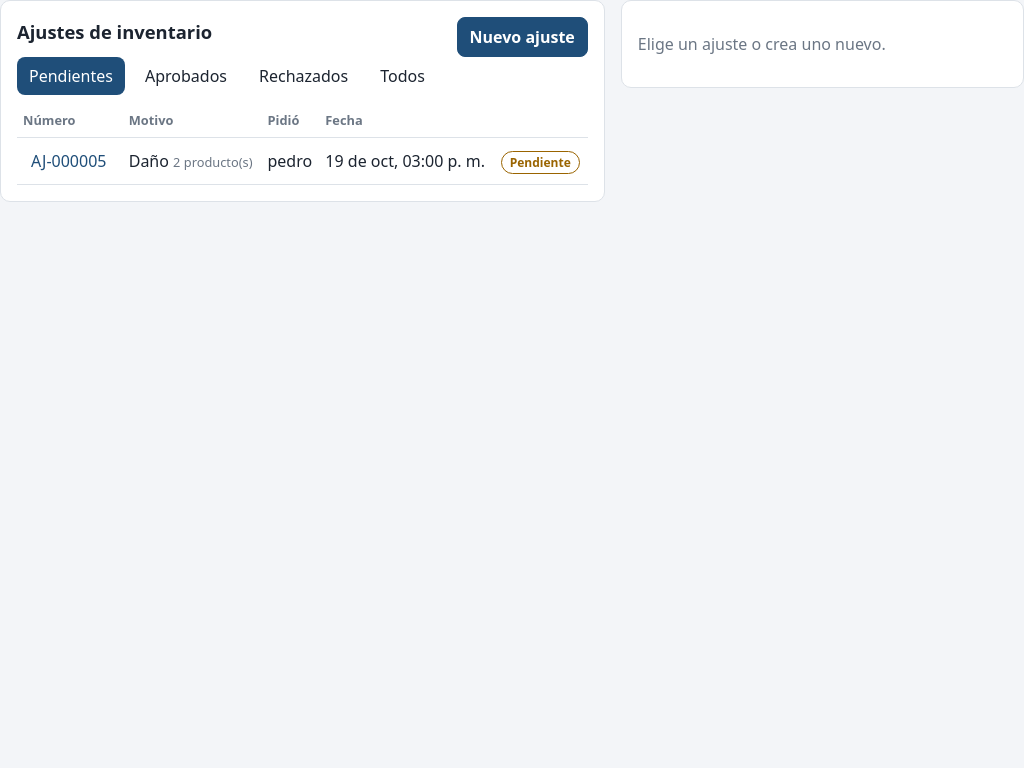
pantalla Ajustes › con reports.costs muestra el valor y el total; los errores del servidor se ven
What coordinates should you click on to do the following:
click the button "AJ-000005"
I would click on:
 (69, 161)
Its box is [23, 146, 114, 176].
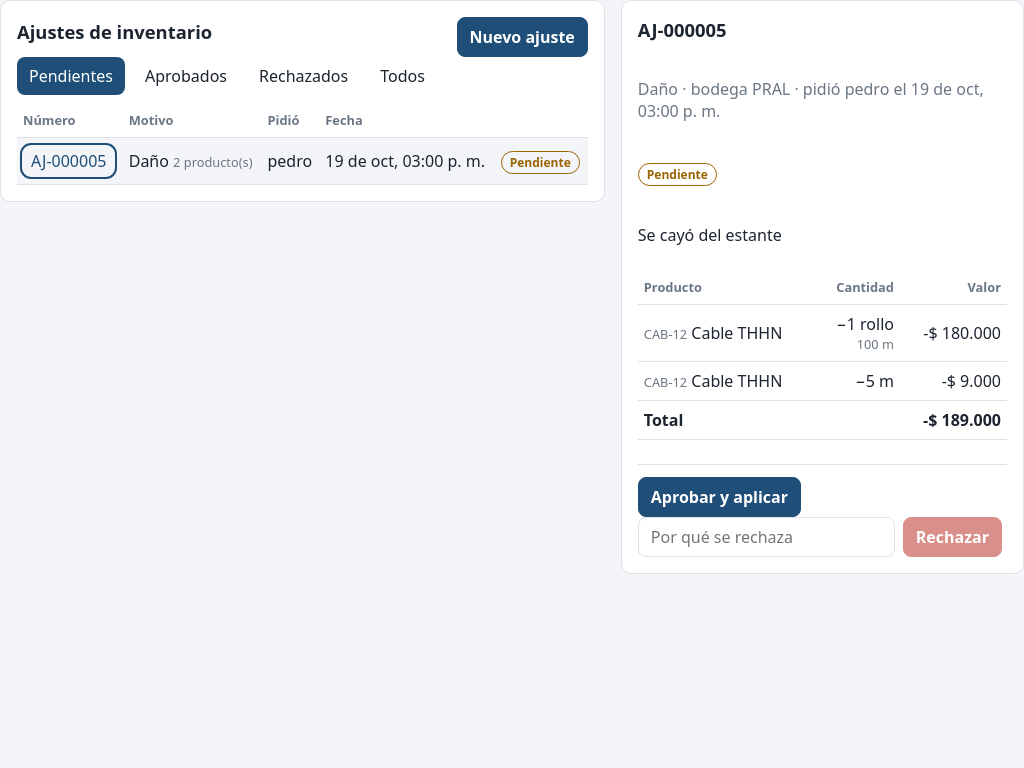
What coordinates should you click on to do the following:
click the button "Aprobar y aplicar"
I would click on:
 (719, 497)
Its box is [638, 477, 801, 517].
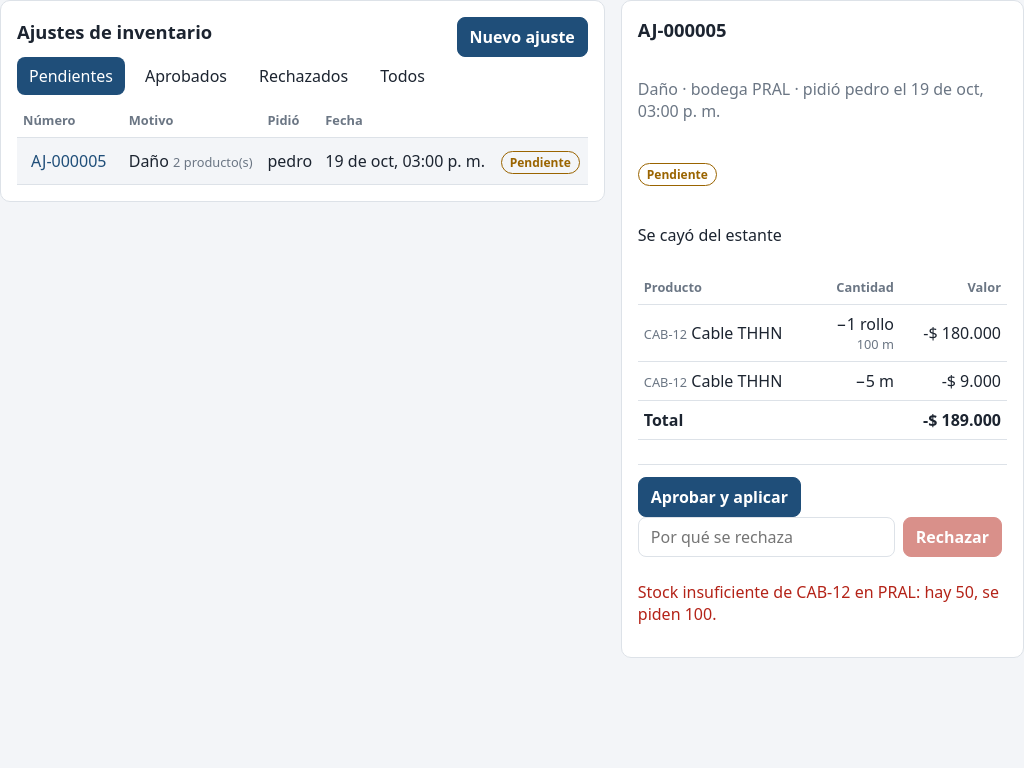
Expected: the message shows "Stock insuficiente", [638, 581, 999, 625]
